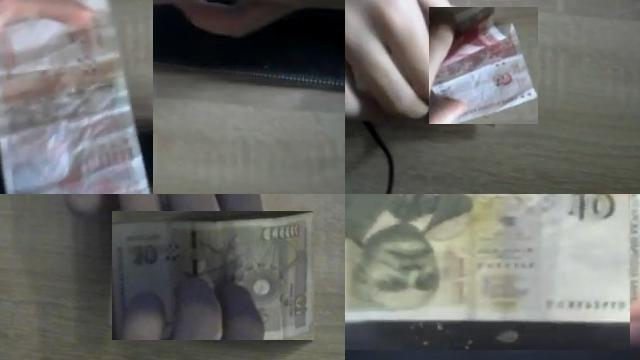10leva: (345, 194, 630, 350), (112, 211, 314, 340)
5leva: (0, 0, 152, 194), (429, 7, 538, 124)
